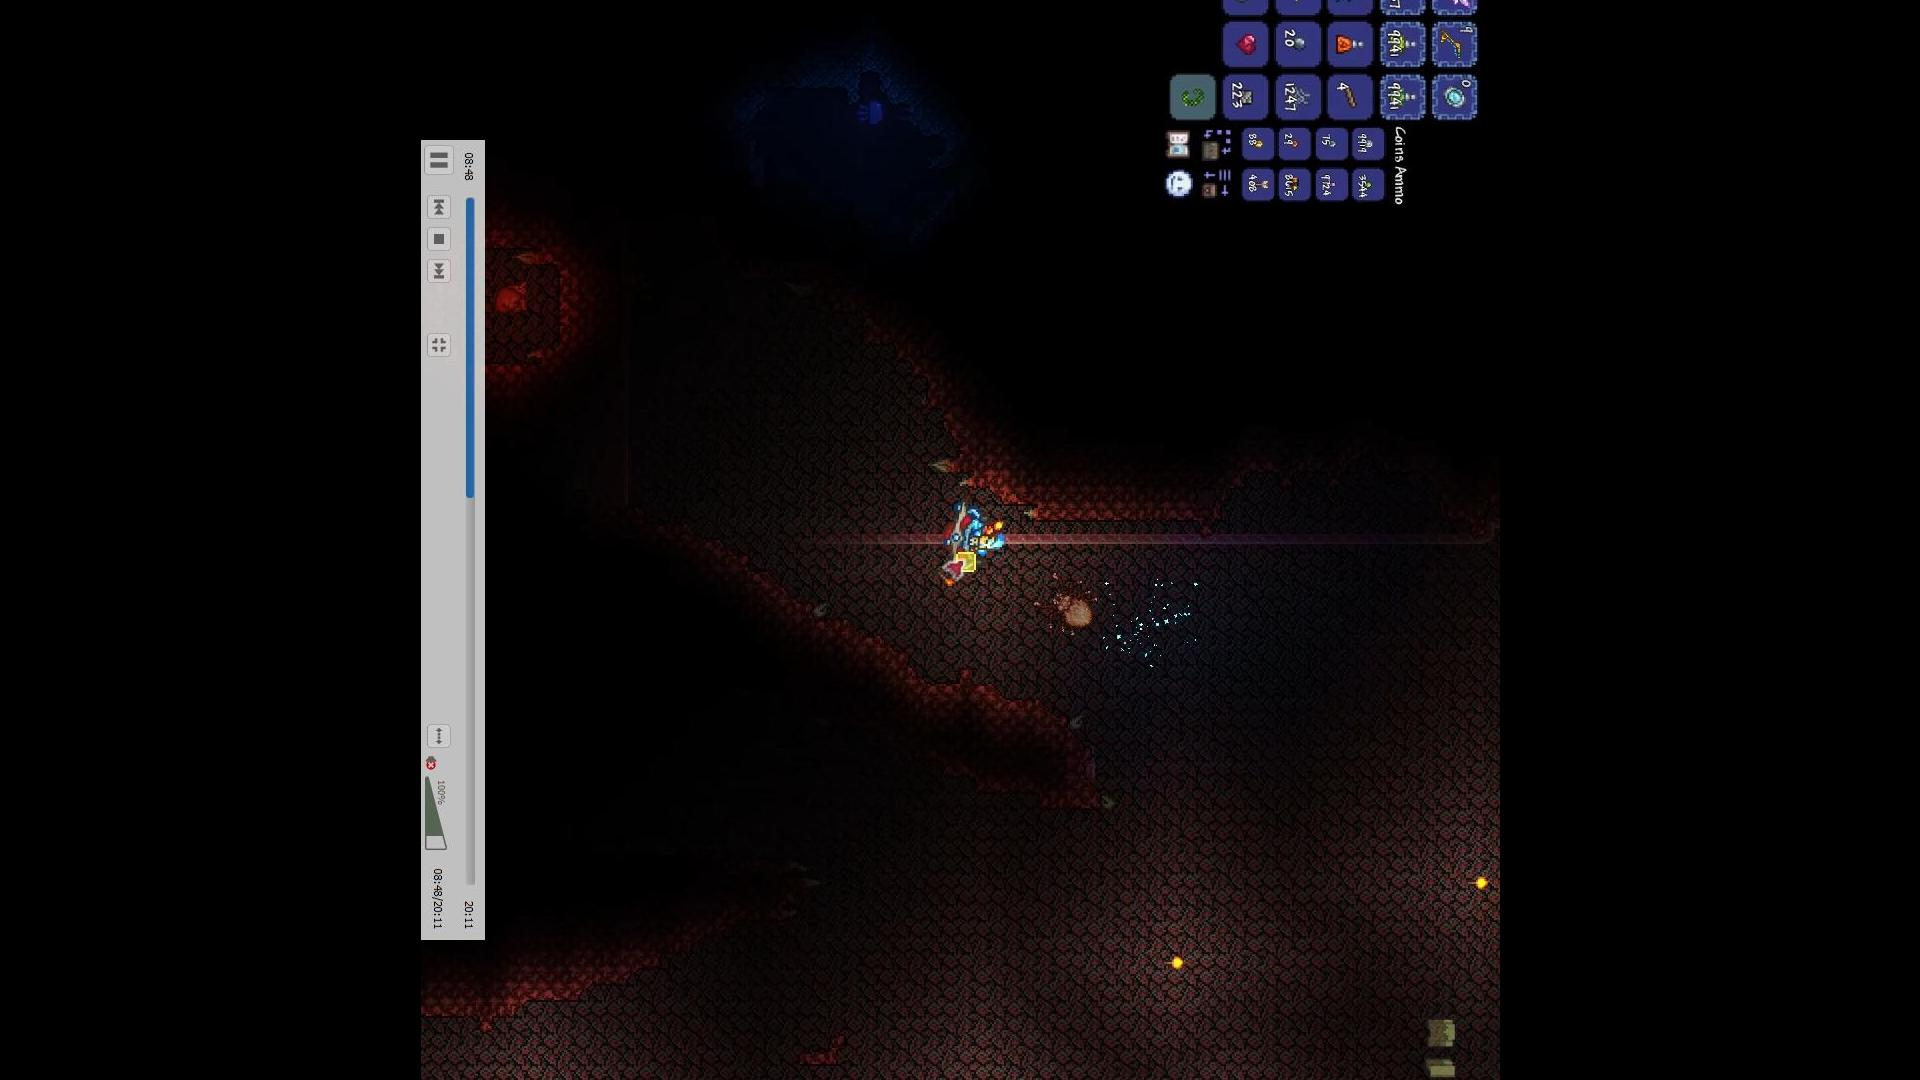lifeC: (1236, 33, 1261, 58)
mirror: (1440, 84, 1469, 109)
spider: (1029, 568, 1102, 640)
